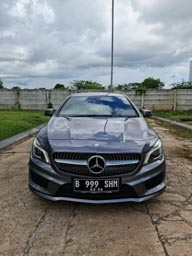plat: (72, 178, 120, 187)
